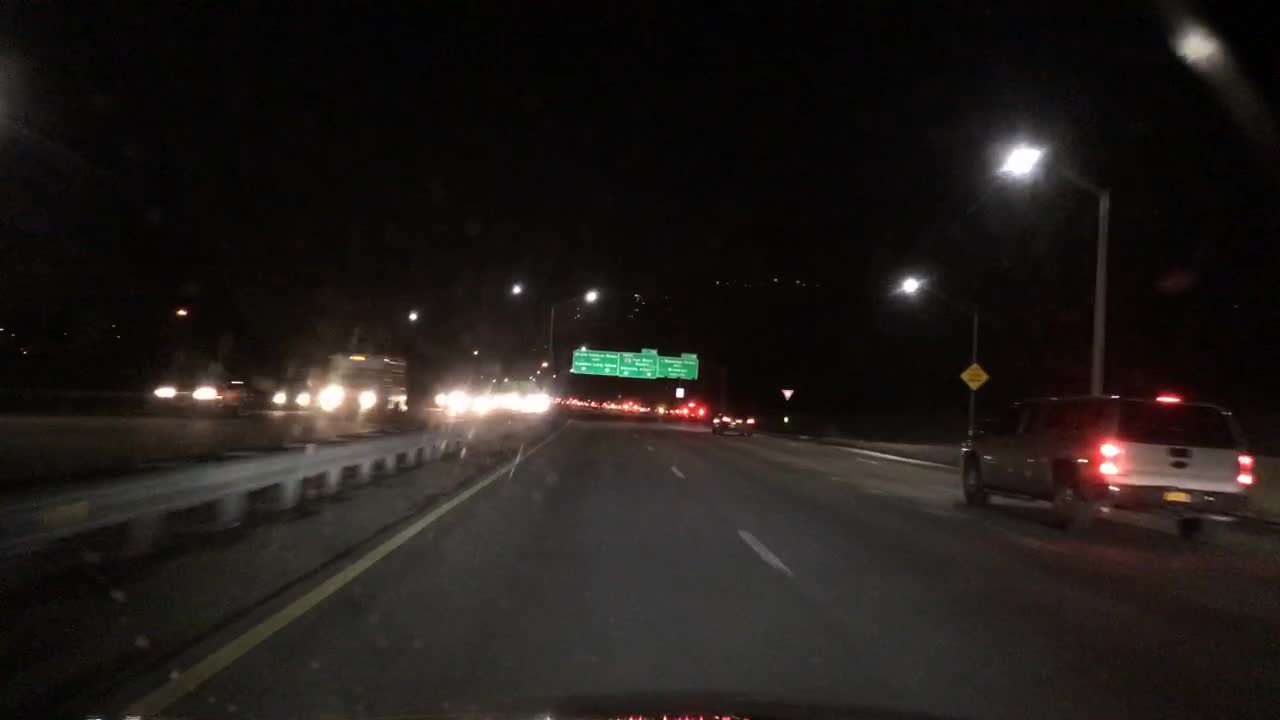car: (961, 391, 1258, 545), (145, 371, 249, 414), (710, 408, 758, 439), (271, 383, 313, 410), (507, 391, 548, 413), (434, 391, 473, 414), (477, 390, 503, 413), (681, 403, 706, 419), (621, 398, 638, 412), (606, 399, 620, 411), (637, 404, 650, 414), (663, 405, 674, 416)
traffic sign: (570, 349, 622, 375), (617, 348, 655, 376), (658, 353, 697, 379), (957, 362, 988, 392)
truck: (320, 356, 408, 413)
